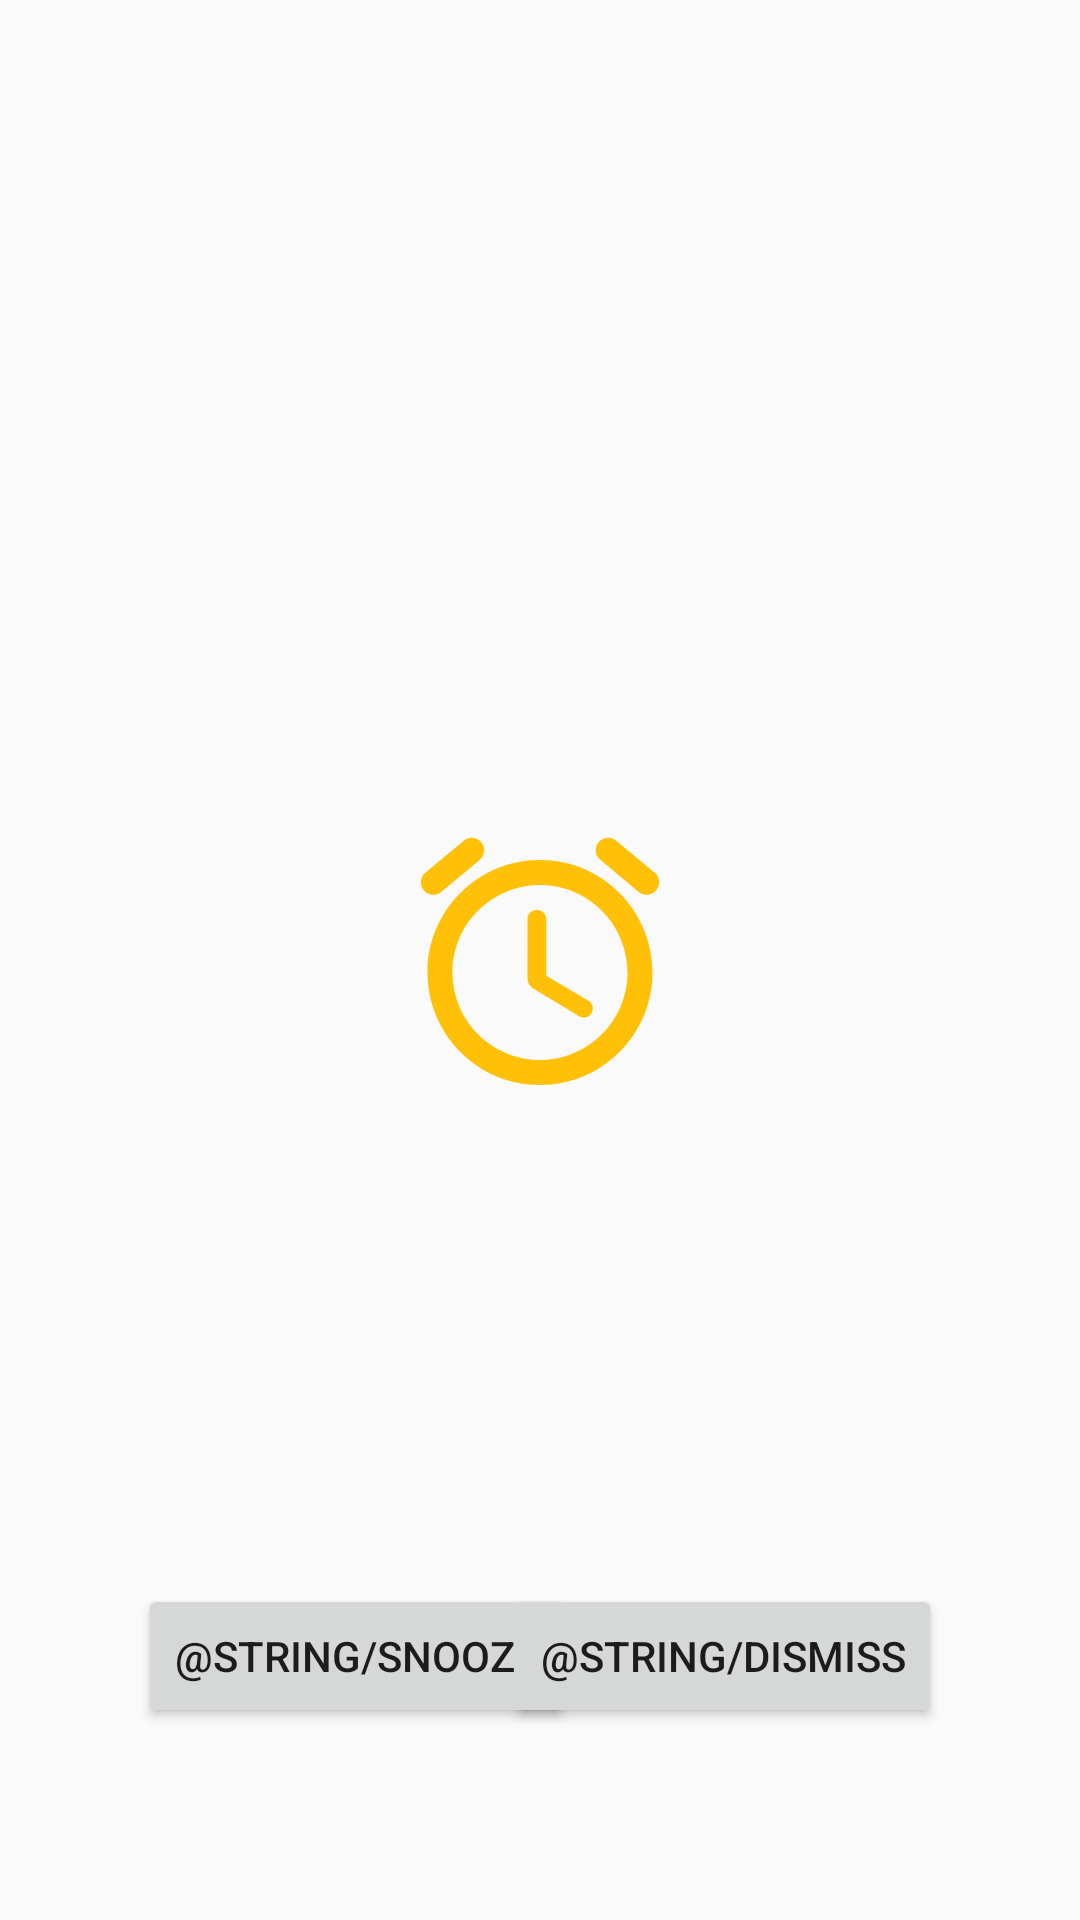

Where icons sit on this 1080×1920 app screen, as (x1, y1, x2, y2):
reminder on: (420, 837, 660, 1085)
